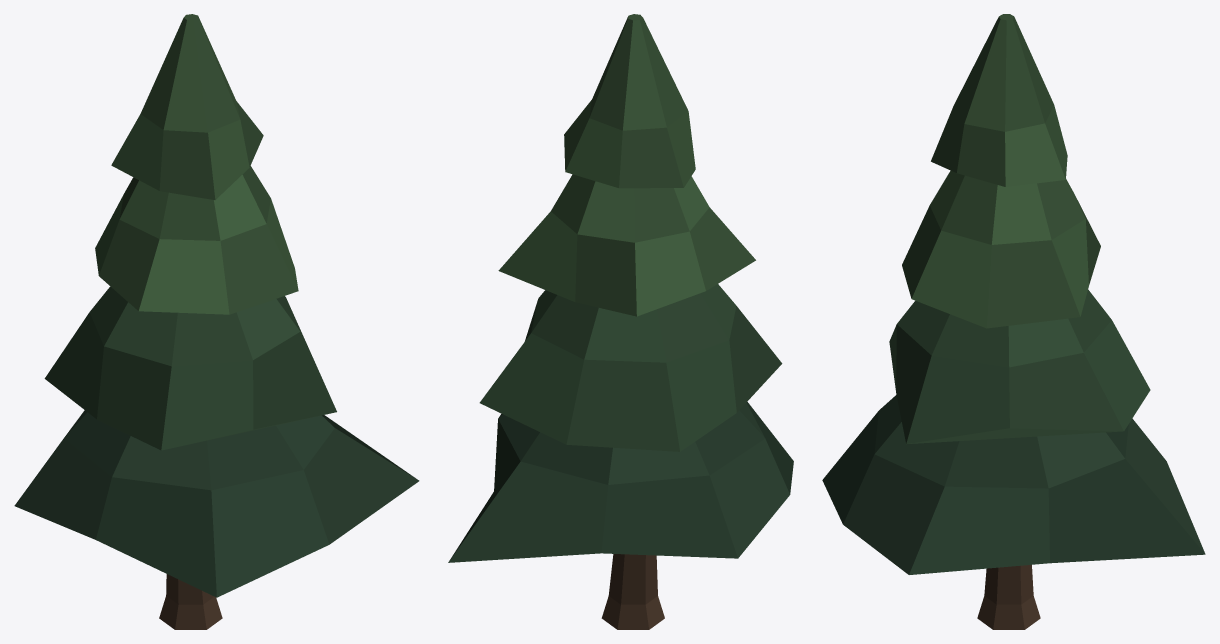
Rendered from arvore_1.glb.
The picture shows the model from 3 angles, left to right: view 1: azimuth 30°, elevation 25°; view 2: azimuth 150°, elevation 25°; view 3: azimuth 270°, elevation 25°; orthographic projection.
Visible parts, largest first — view 1: arvore_1.001; view 2: arvore_1.001; view 3: arvore_1.001.
Boxes of the visible parts, <box> form: arvore_1.001: <box>14,14,419,629</box>; arvore_1.001: <box>448,14,793,629</box>; arvore_1.001: <box>822,14,1205,629</box>.
Bounding box in the file's own units: 2.51 × 4.51 × 2.61.
